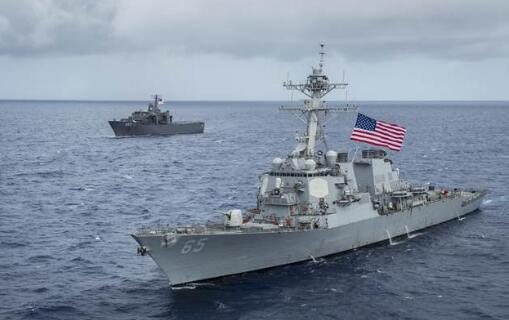warship: (125, 60, 486, 286), (105, 89, 207, 140)
